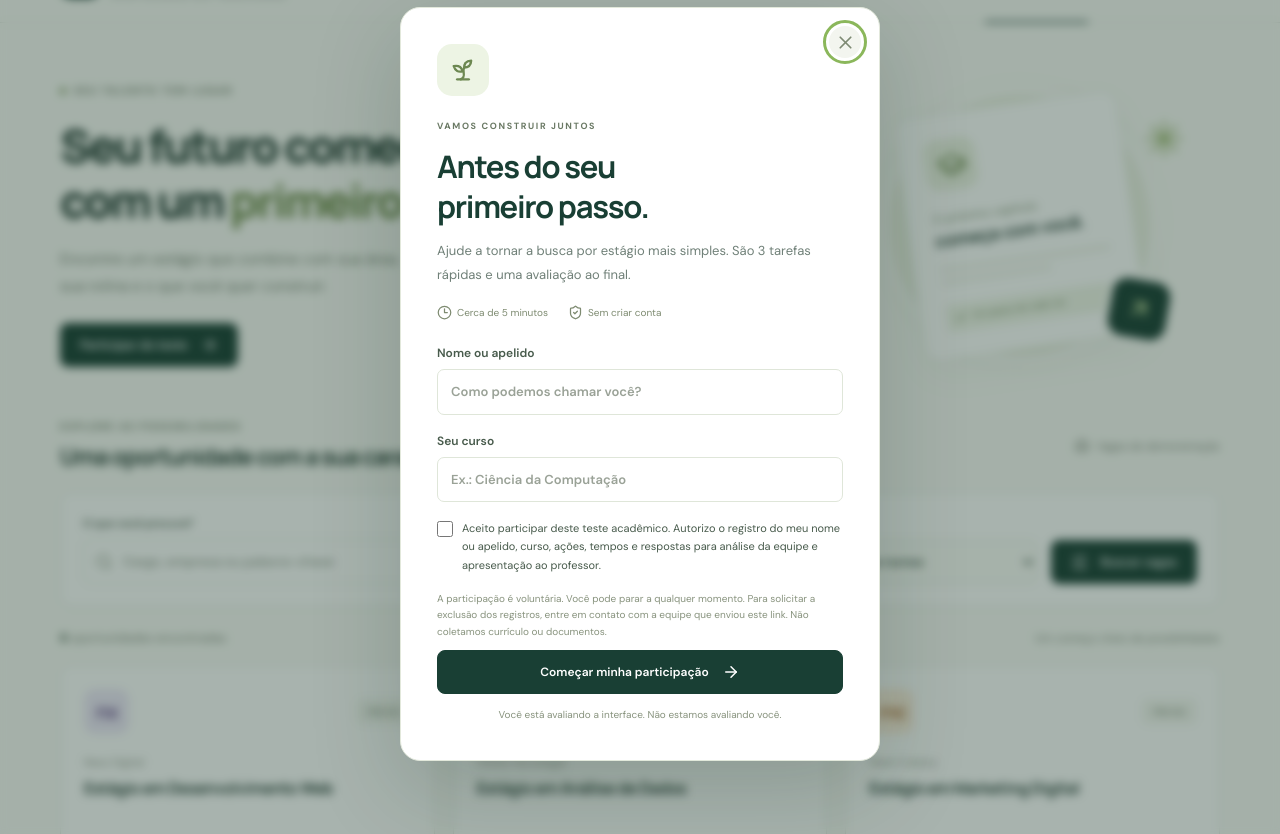
permite ir direto a uma vaga e candidatar-se sem ler o roteiro
This screenshot has width=1280, height=834.
Type "Ana" into the field labelled "Nome ou apelido" at (640, 392), box [437, 369, 843, 415]
Type "Ciência da Computação" into the field labelled "Seu curso" at (640, 479), box [437, 457, 843, 502]
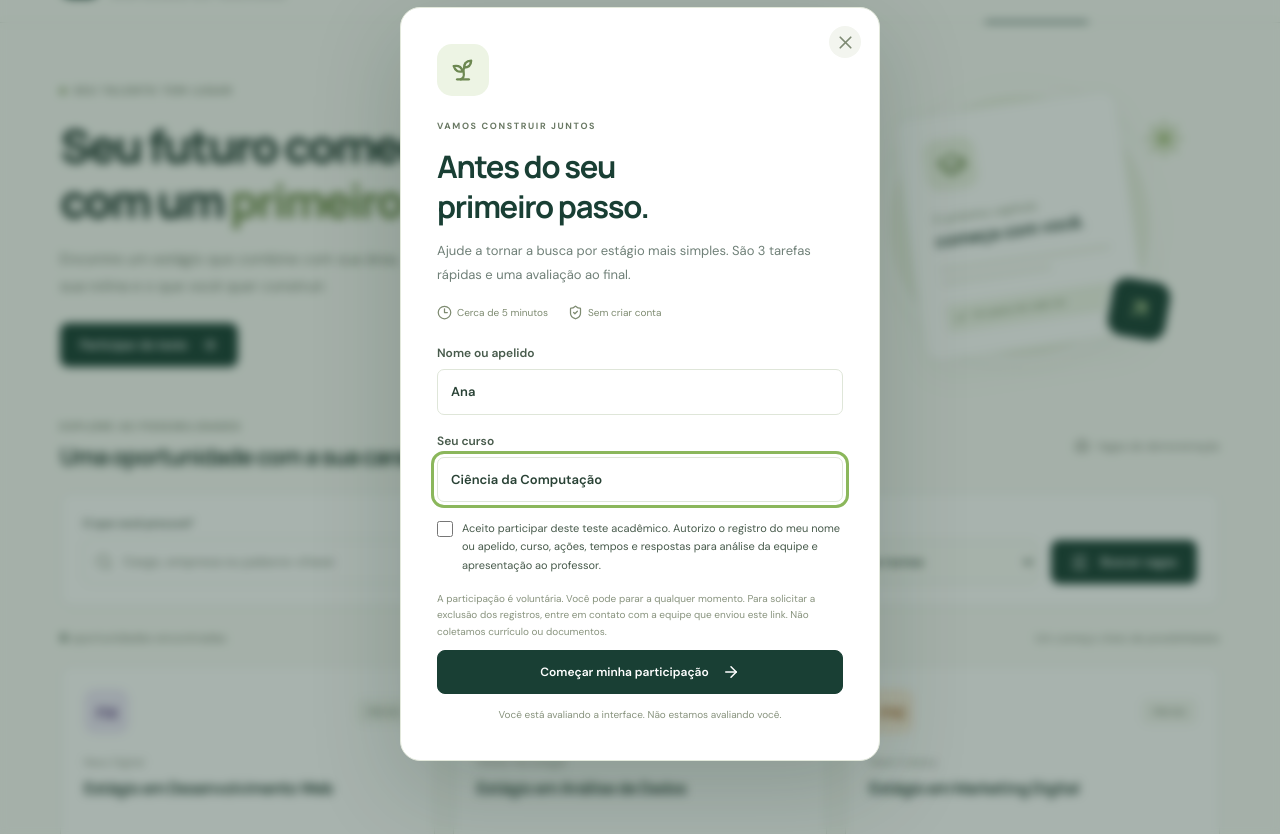
Click the checkbox at (445, 529), box [437, 521, 453, 537]
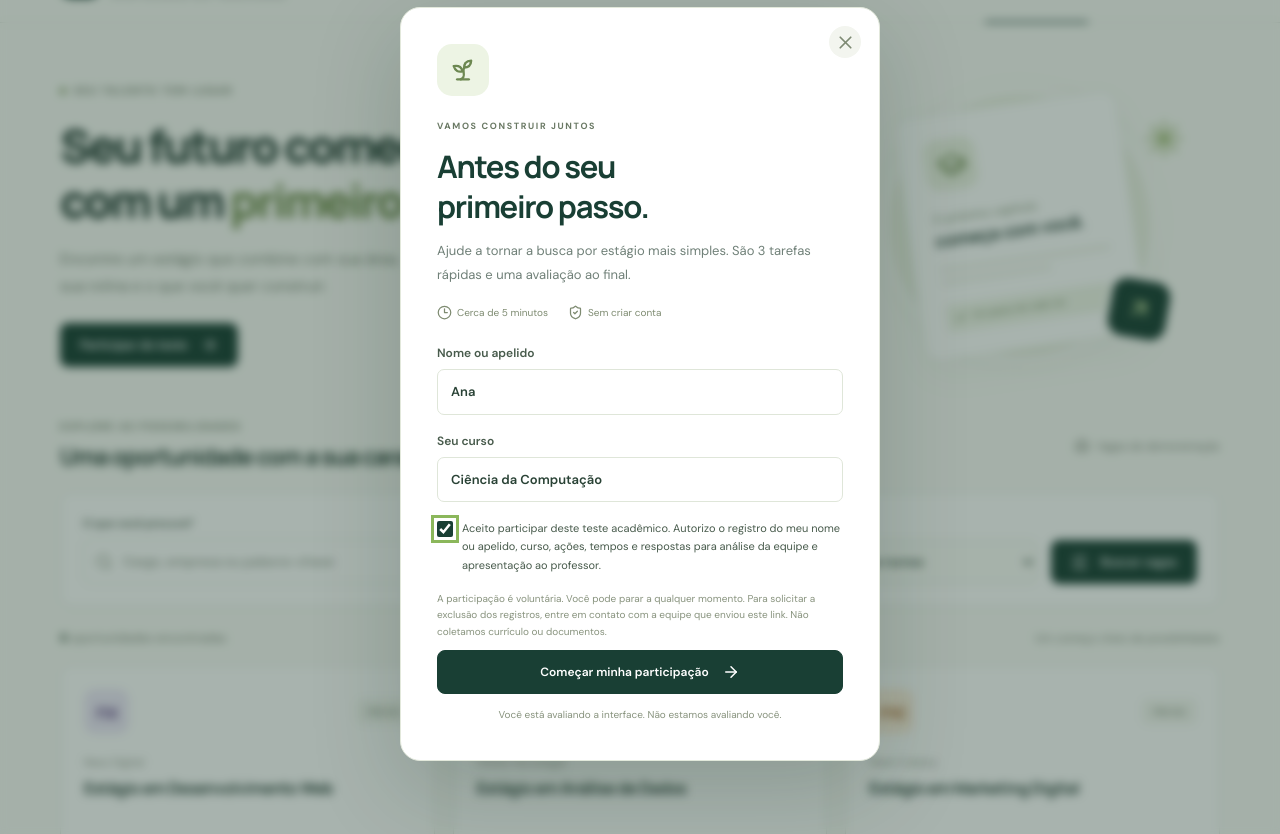
Click the button "Começar minha participação" at (640, 672), box [437, 650, 843, 694]
(page scrolled)
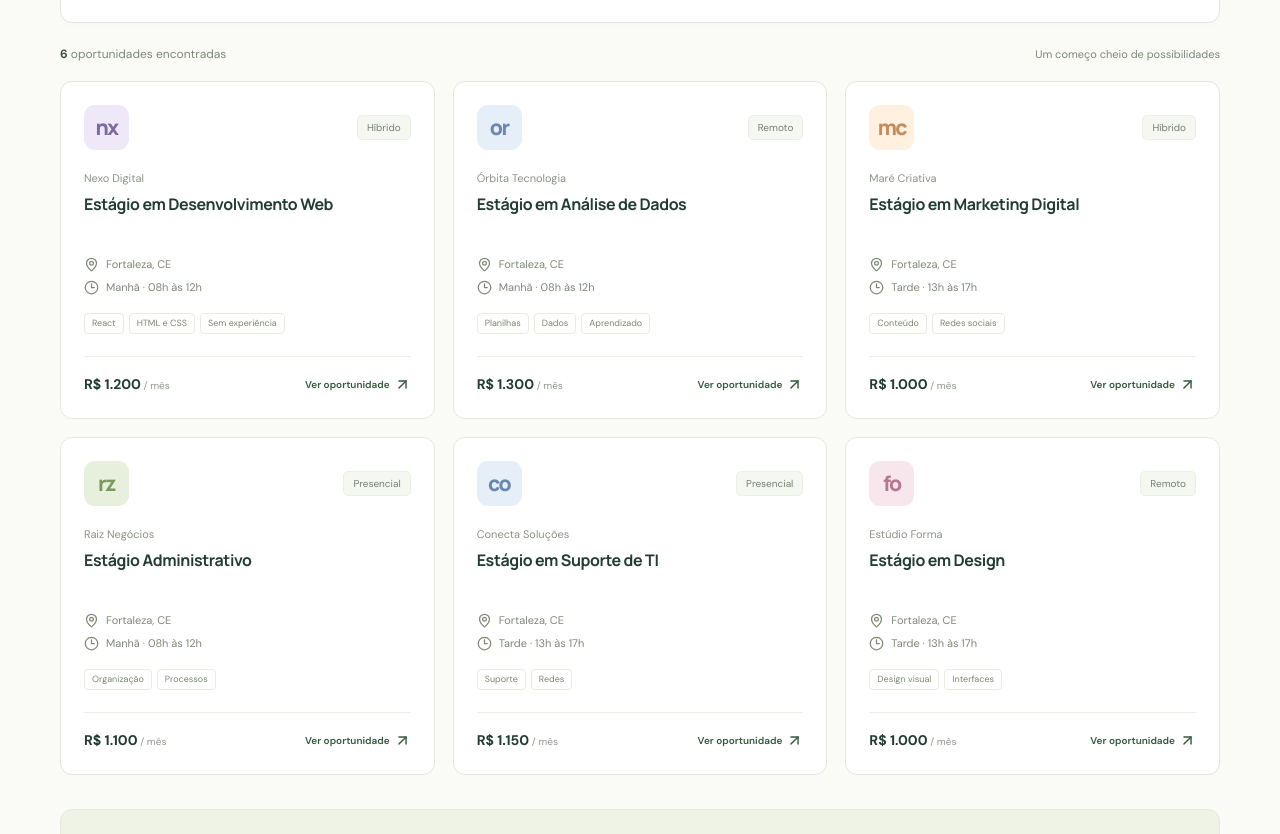
Click the button with aria-label "Ver vaga: Estágio em Marketing Digital" at (1143, 385), box [1090, 376, 1196, 394]
(page scrolled)
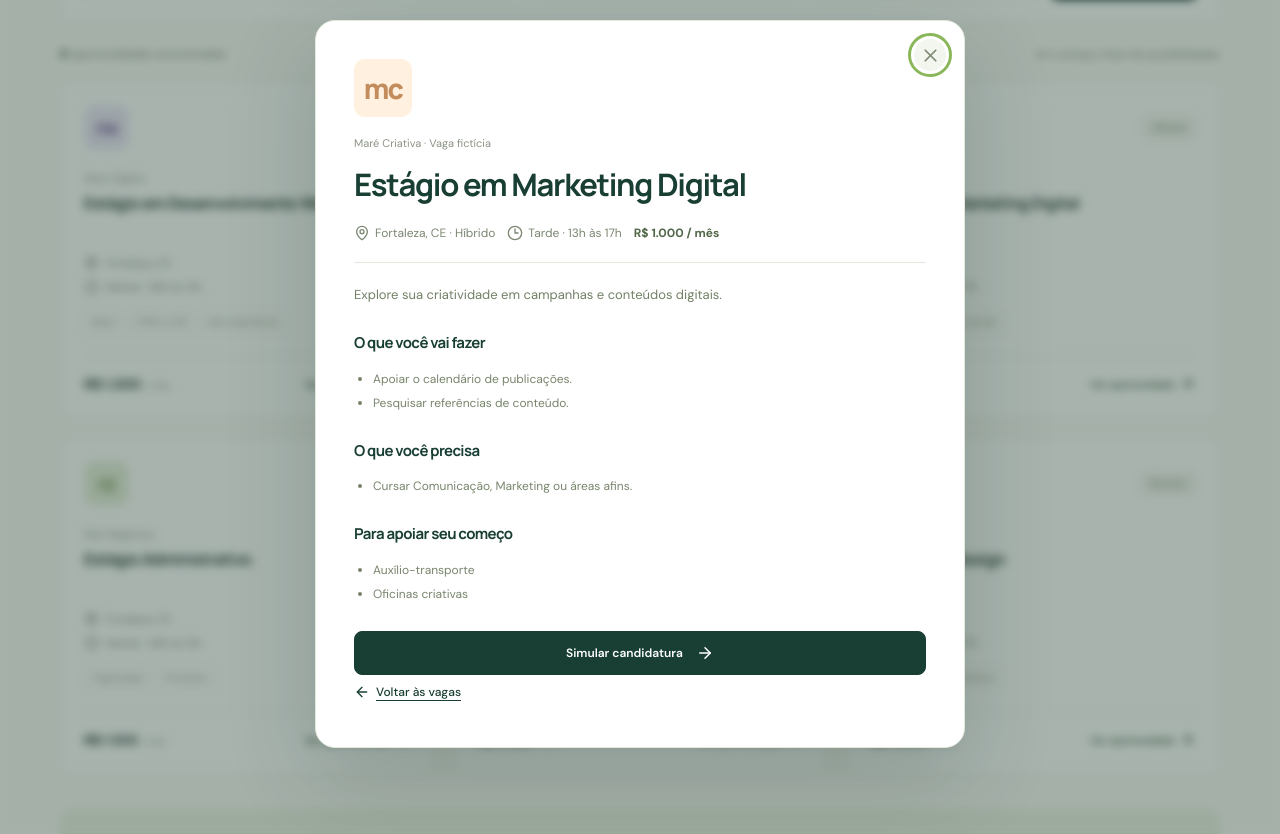
Click the button "Simular candidatura" at (640, 653), box [354, 631, 926, 675]
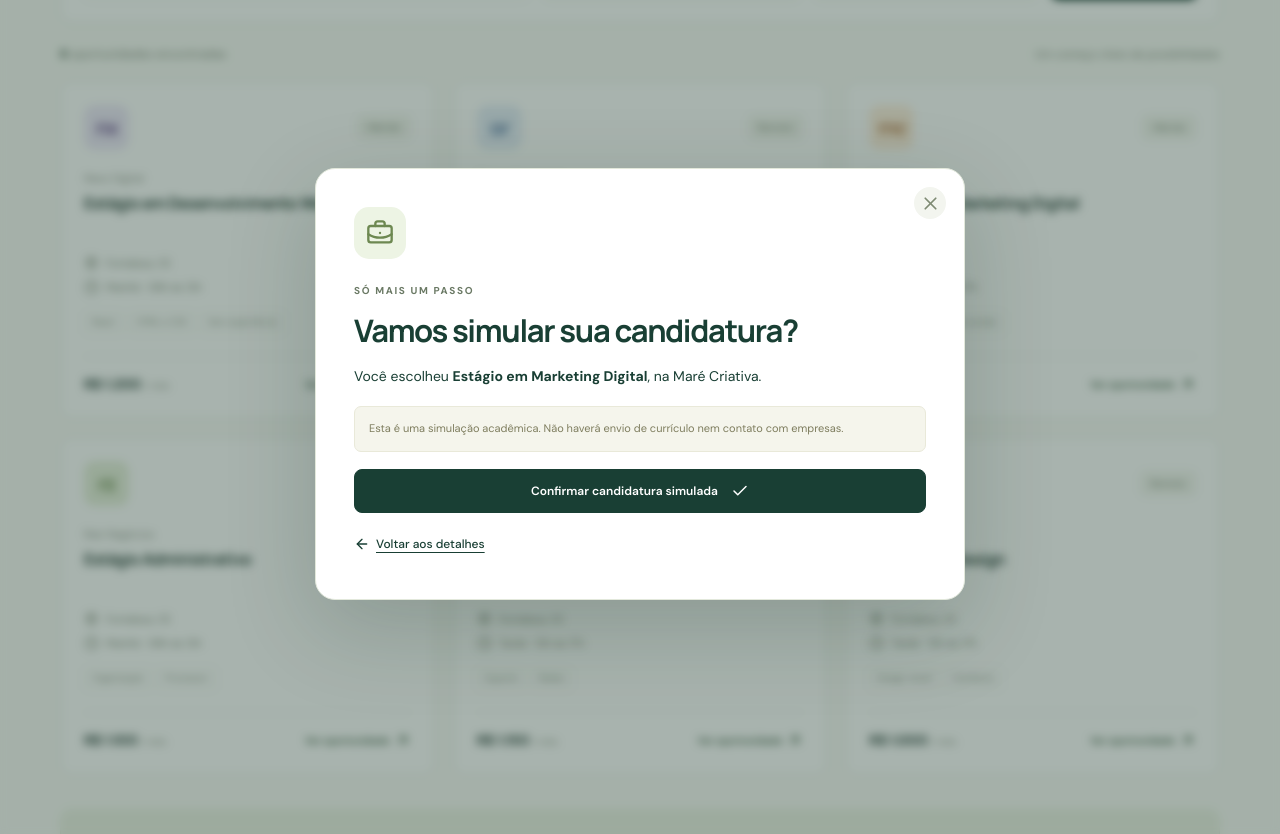
Click the button "Confirmar candidatura simulada" at (640, 491), box [354, 469, 926, 513]
(page scrolled)
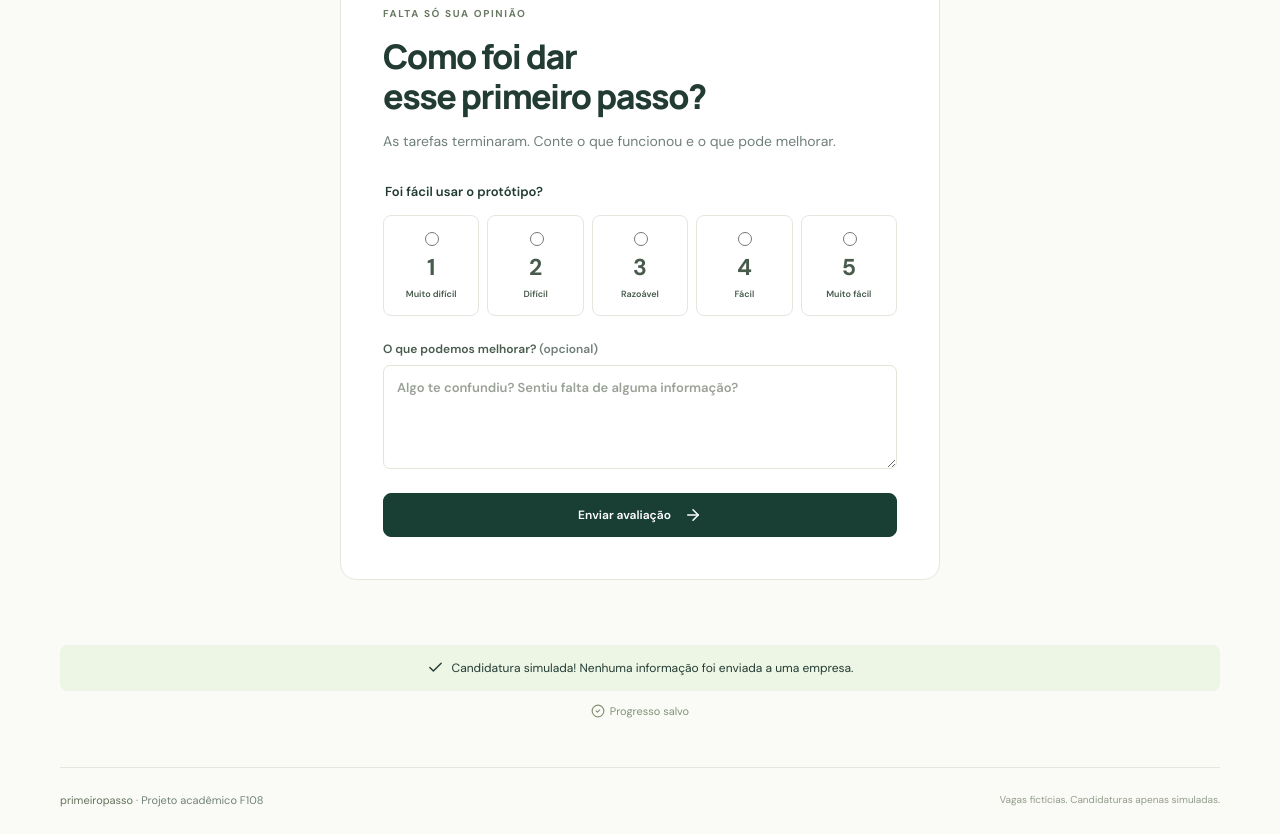
Result: the text "Foi fácil usar o protótipo?" is shown at [383, 182, 545, 202]
